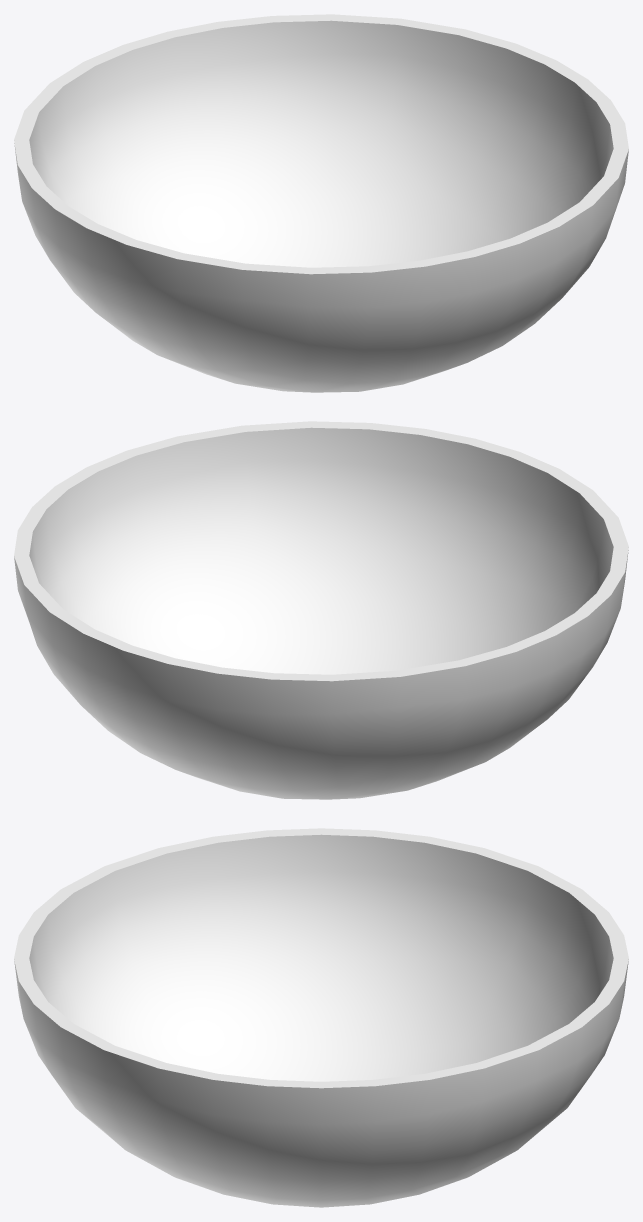
Rendered from HP_bowl.obj.
The picture shows the model from 3 angles, top to bottom: view 1: azimuth 30°, elevation 25°; view 2: azimuth 150°, elevation 25°; view 3: azimuth 270°, elevation 25°; orthographic projection.
Parts seen in each view (by area): view 1: HP_bowl.001; view 2: HP_bowl.001; view 3: HP_bowl.001.
Boxes of the visible parts, bbox=[...] form: HP_bowl.001: bbox=[14, 14, 628, 392]; HP_bowl.001: bbox=[14, 421, 628, 799]; HP_bowl.001: bbox=[14, 828, 628, 1207].
Bounding box in the file's own units: 0.1764 × 0.0673 × 0.1764.
